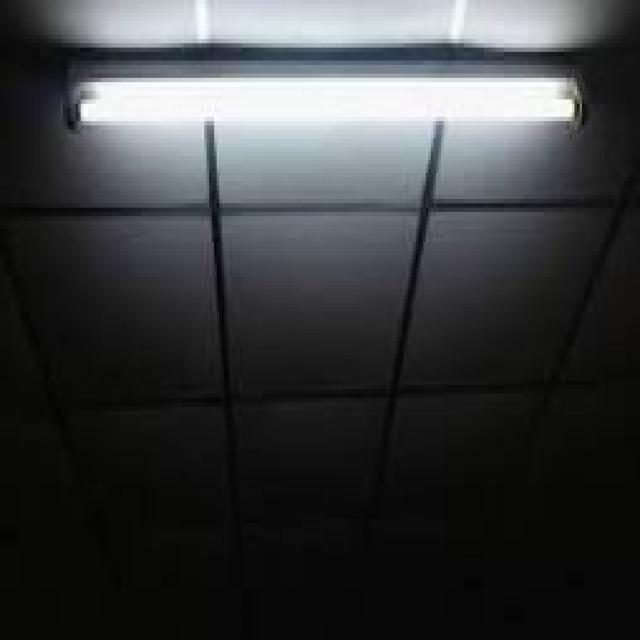tubelight_on: (62, 69, 586, 129)
